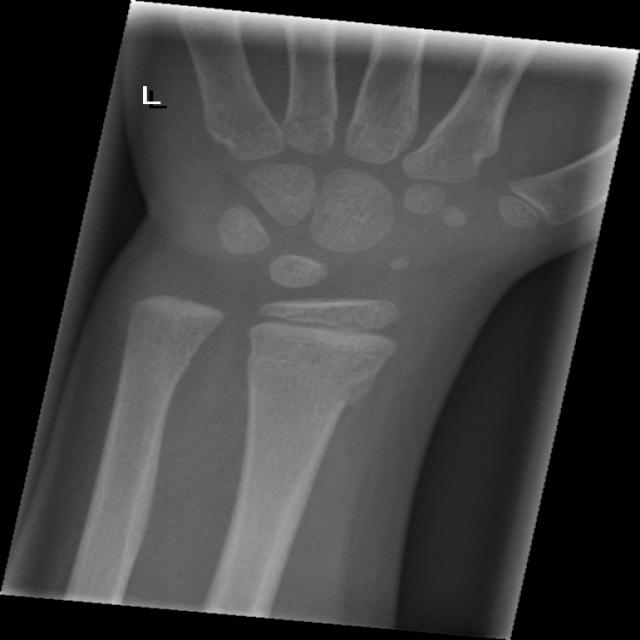radius fracture: (230, 336, 411, 456)
